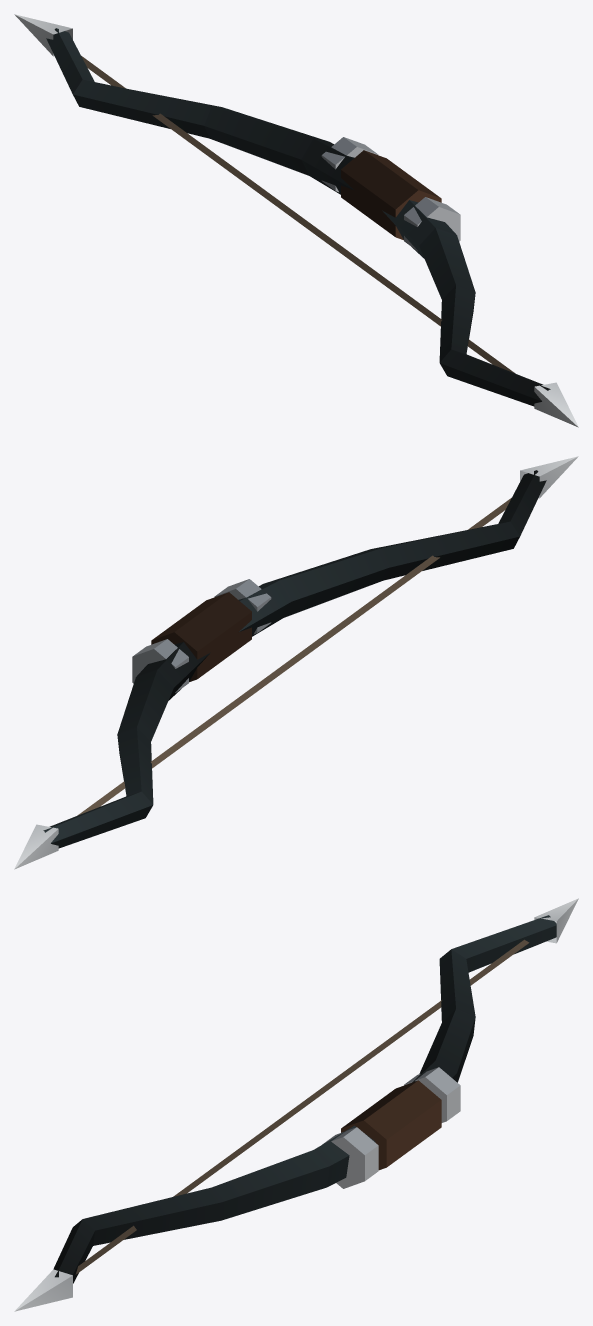
Rendered from ranger_soulbow_2.gltf.
The picture shows the model from 3 angles, top to bottom: view 1: azimuth 30°, elevation 25°; view 2: azimuth 150°, elevation 25°; view 3: azimuth 330°, elevation 25°; orthographic projection.
Visible parts, largest first — view 1: ranger_soulbow_2; view 2: ranger_soulbow_2; view 3: ranger_soulbow_2.
Part boxes in pixels (x1,y1,x2,y2): ranger_soulbow_2: (14,14,578,427); ranger_soulbow_2: (14,456,578,869); ranger_soulbow_2: (14,898,578,1311).
Bounding box in the file's own units: 0.4004 × 0.1344 × 2.48.
1 material, 1 textured.
